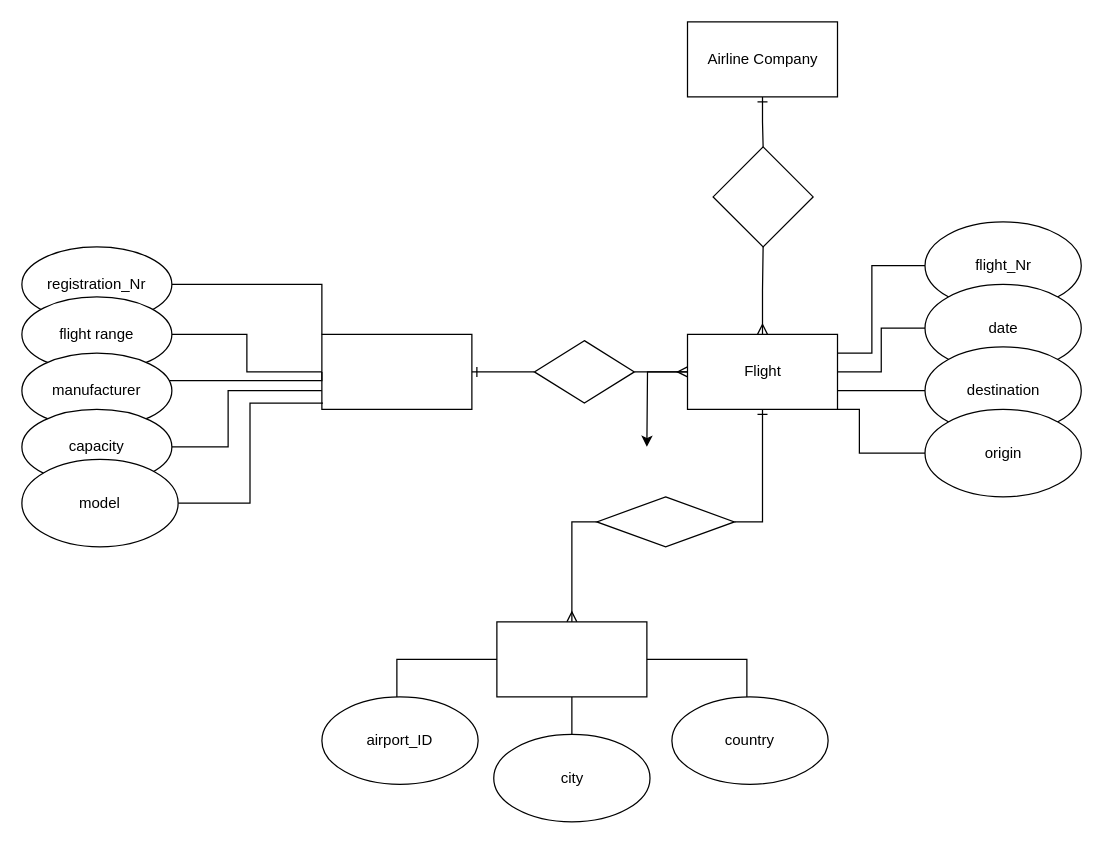
Image size: 1104x844. Some labels were removed from this diagram. The centre of each missing label's shape, as x and y in pixels:
"Airport" goes at (x=571, y=659).
"carry out" goes at (x=583, y=371).
"connect" goes at (x=665, y=521).
"offers" goes at (x=762, y=196).
"Plane" goes at (x=396, y=371).
